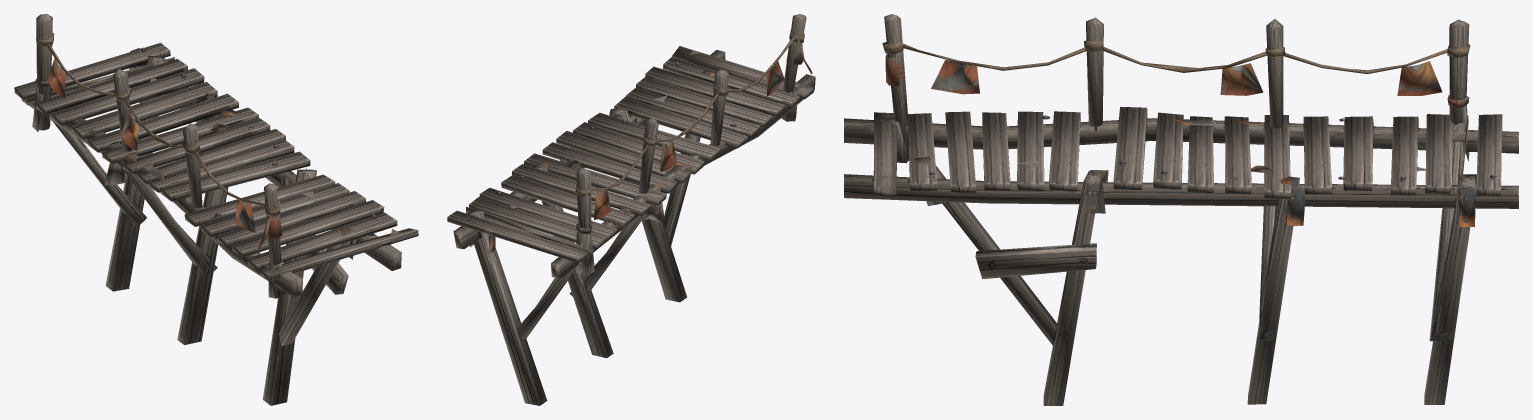
The model's file is goblin-walkway-straight.glb.
3 views of the same model, side by side, from view 1: azimuth 30°, elevation 25°; view 2: azimuth 150°, elevation 25°; view 3: azimuth 270°, elevation 25° (orthographic). The views are drawn at different scales.
Size of the model in its own units: 0.3232 by 0.5642 by 1.
Materials: 1 (1 with a texture image).
